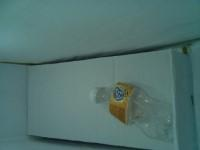bottle: (74, 0, 166, 35)
